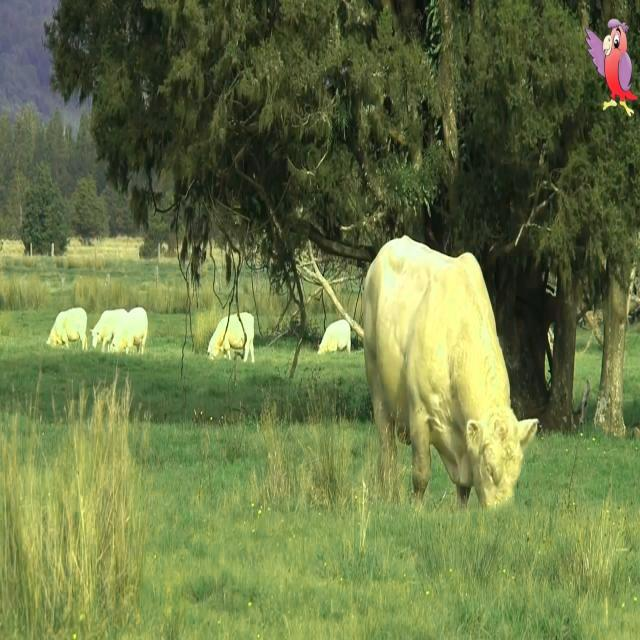cow: (364, 236, 538, 507)
